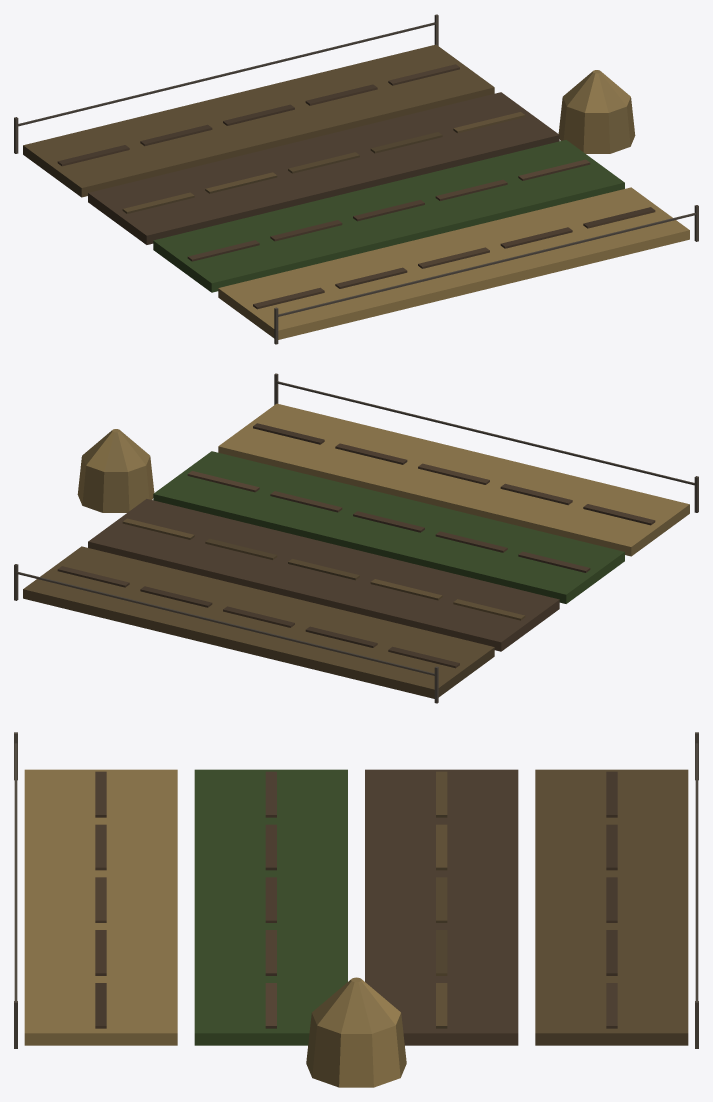
The model's file is yard_fields.glb.
3 renders of one model, top to bottom at view 1: azimuth 30°, elevation 25°; view 2: azimuth 150°, elevation 25°; view 3: azimuth 270°, elevation 25°, orthographic. The views are drawn at different scales.
Visible parts, largest first — view 1: yard_fields; view 2: yard_fields; view 3: yard_fields.
Boxes of the visible parts, bbox=[...] form: yard_fields: bbox=[14, 14, 698, 344]; yard_fields: bbox=[14, 373, 698, 703]; yard_fields: bbox=[14, 732, 698, 1087].
Bounding box in the file's own units: 12.88 × 1.7 × 12.07.
1 material, 1 textured.
